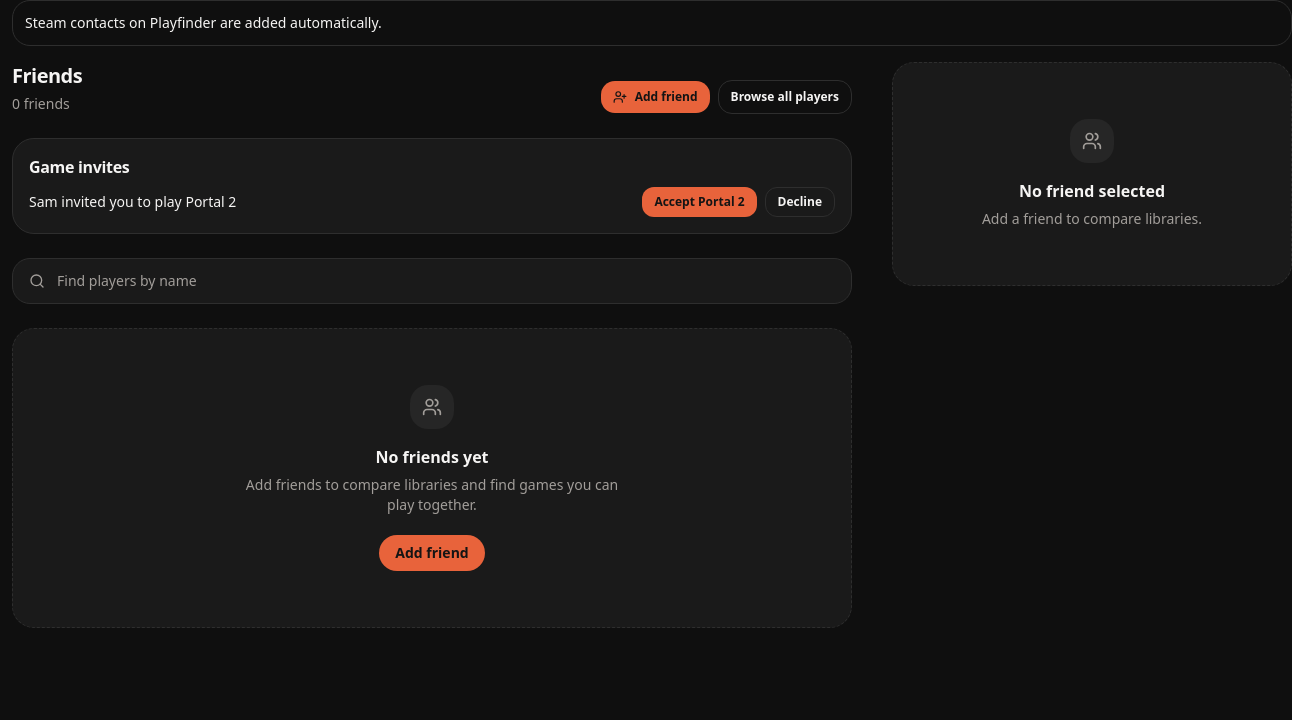
Test: FriendsPage › confirms the accepted game invitation by name
Click the button "Accept Portal 2" at (700, 202), box 642,187 -> 757,217
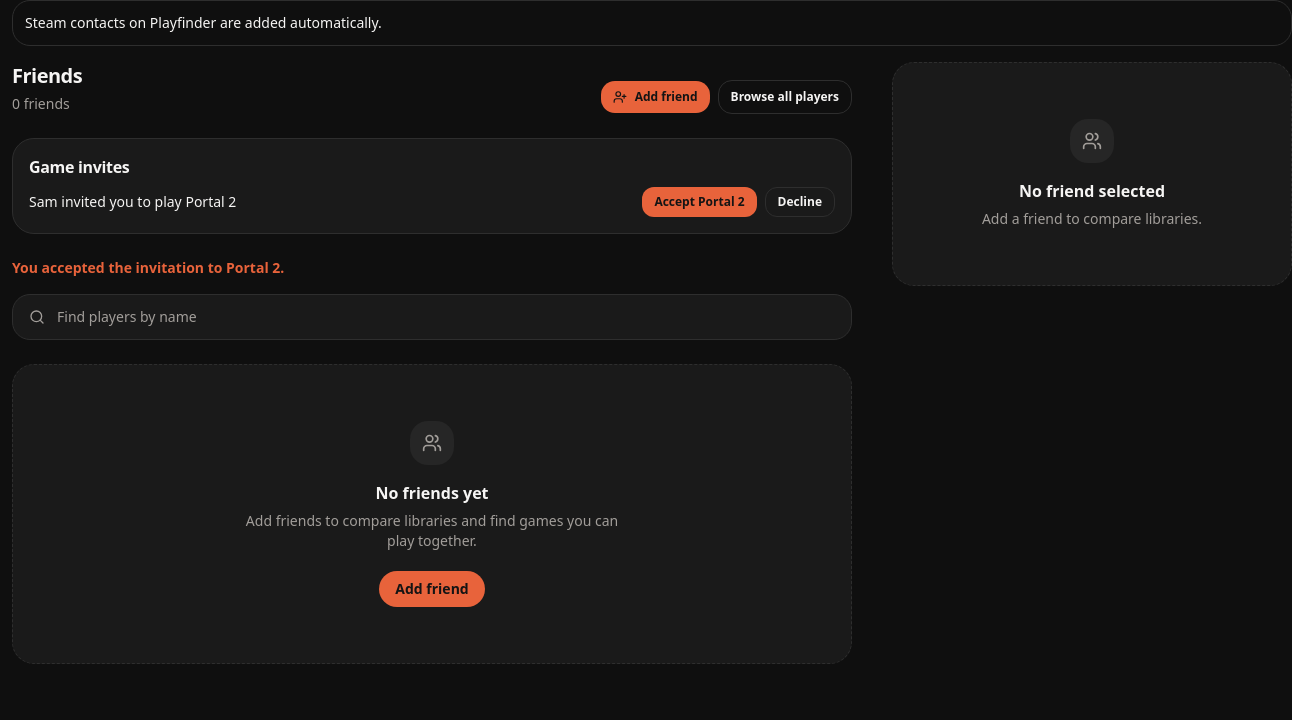
expect the text "You accepted the invitation to Portal 2." is shown: met, box 12,258 -> 284,277
